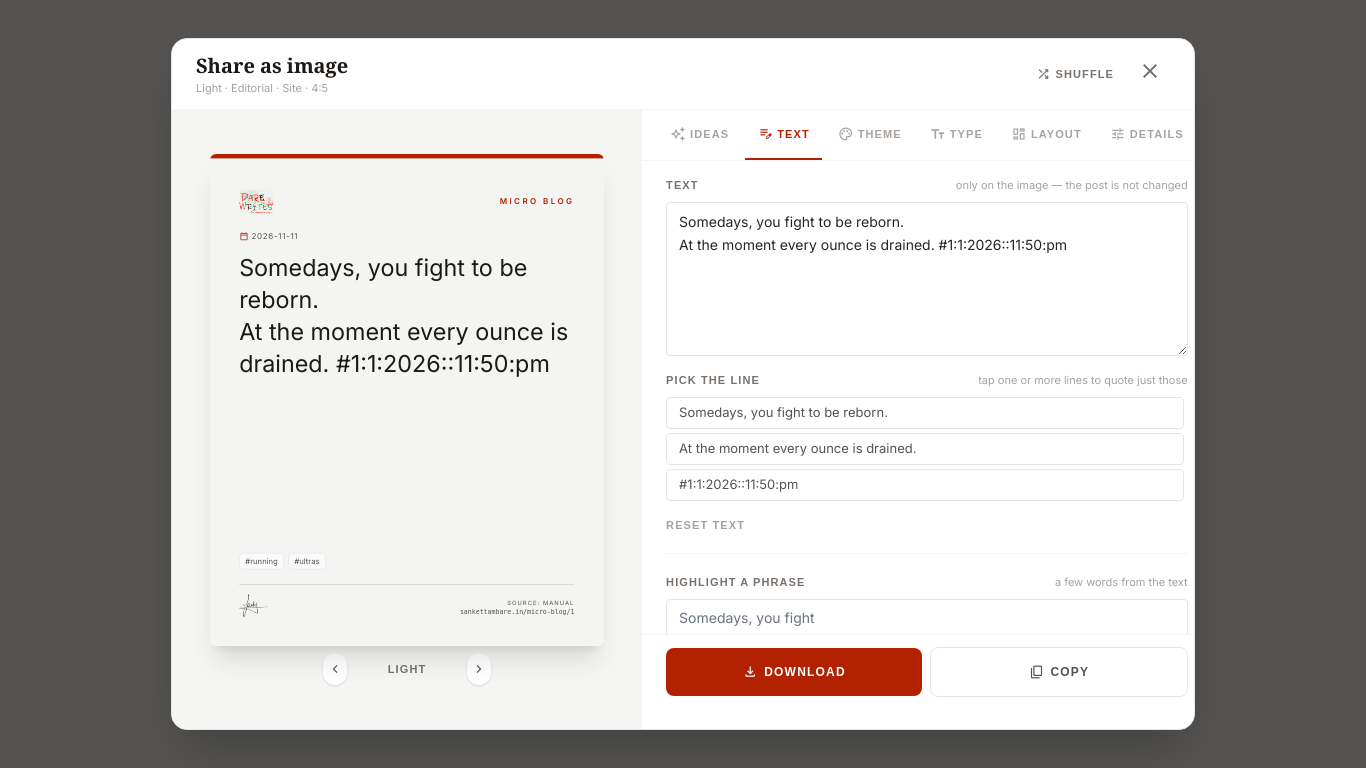
Scenario: ShareStudio › opens, switches tabs, edits text and closes
Earlier steps of the test are not shown.
Later steps or results of the test are not shown.
Click the tab "Theme" at (870, 134), box [838,124,902,144]
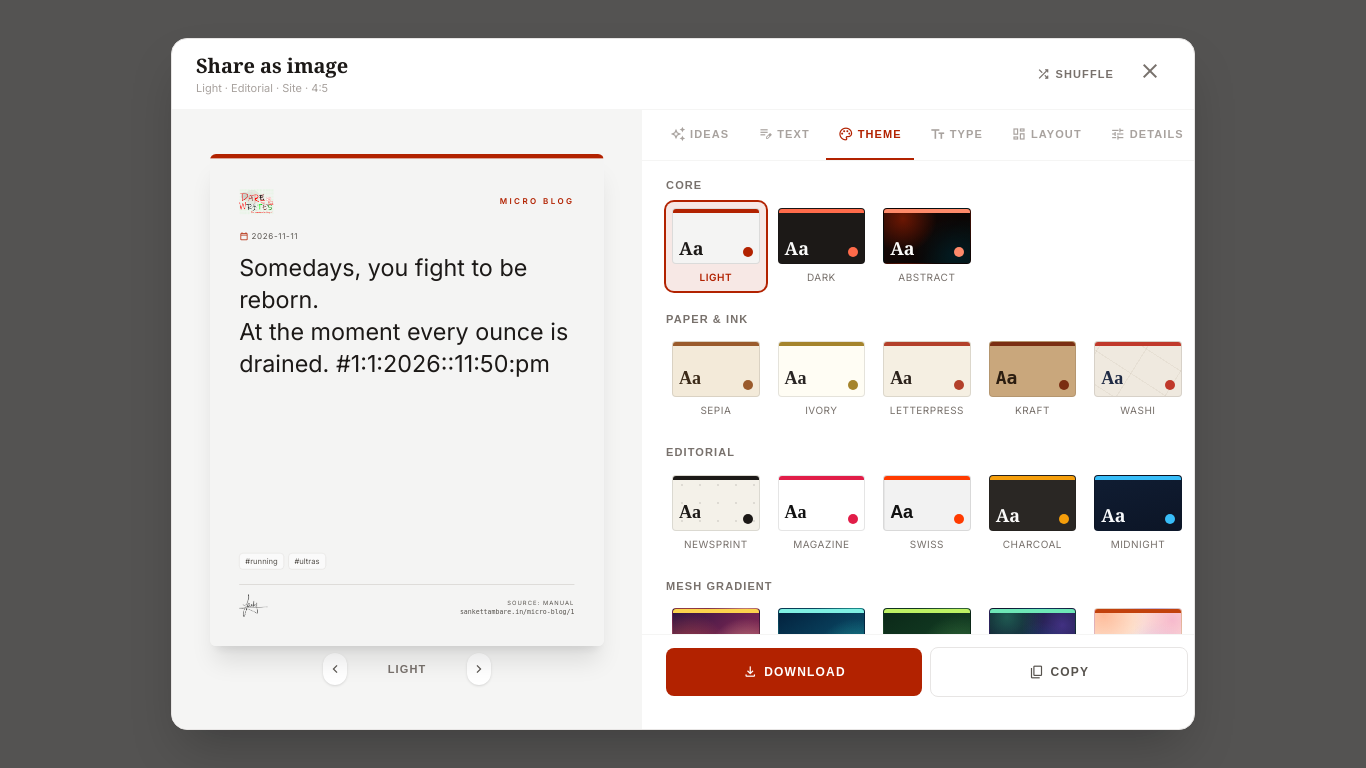
Click the tab "Type" at (956, 134), box [930,124,983,144]
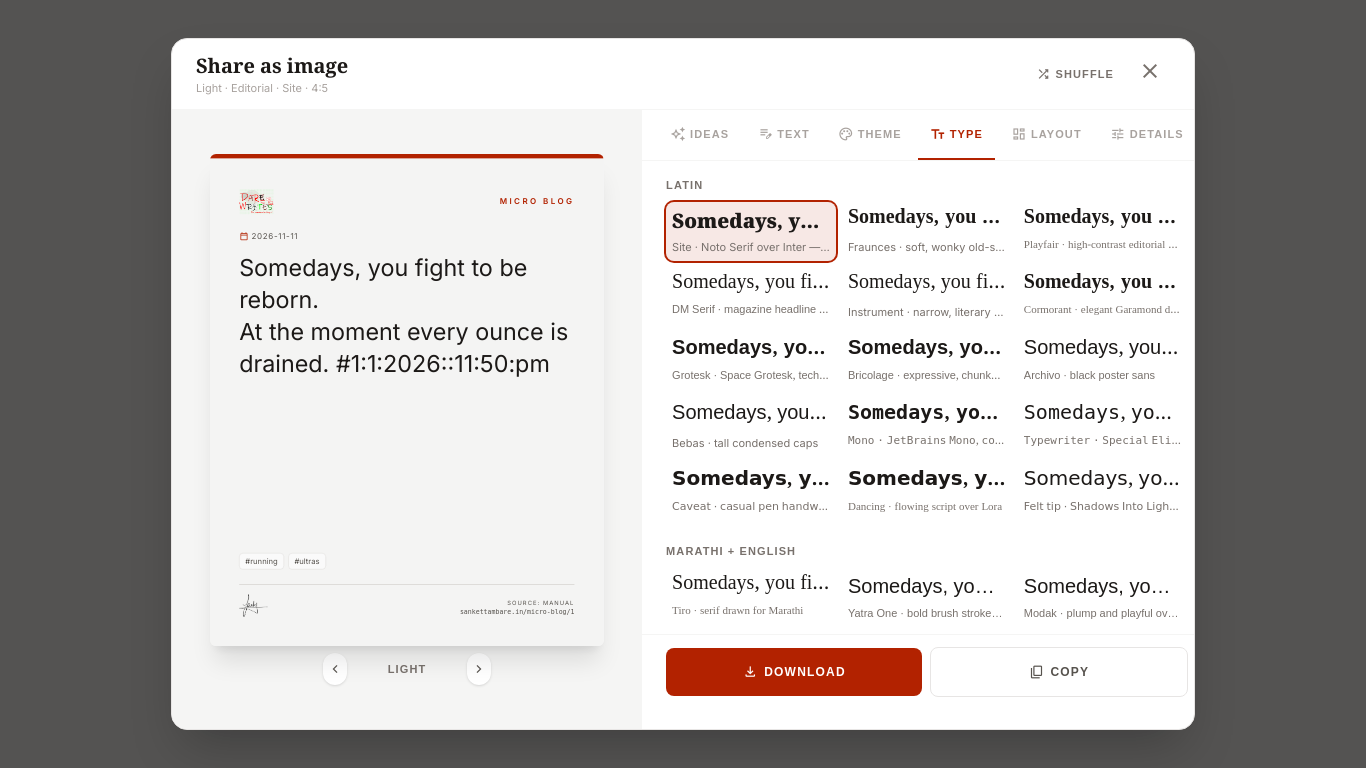
Click the tab "Layout" at (1046, 134), box [1011,124,1082,144]
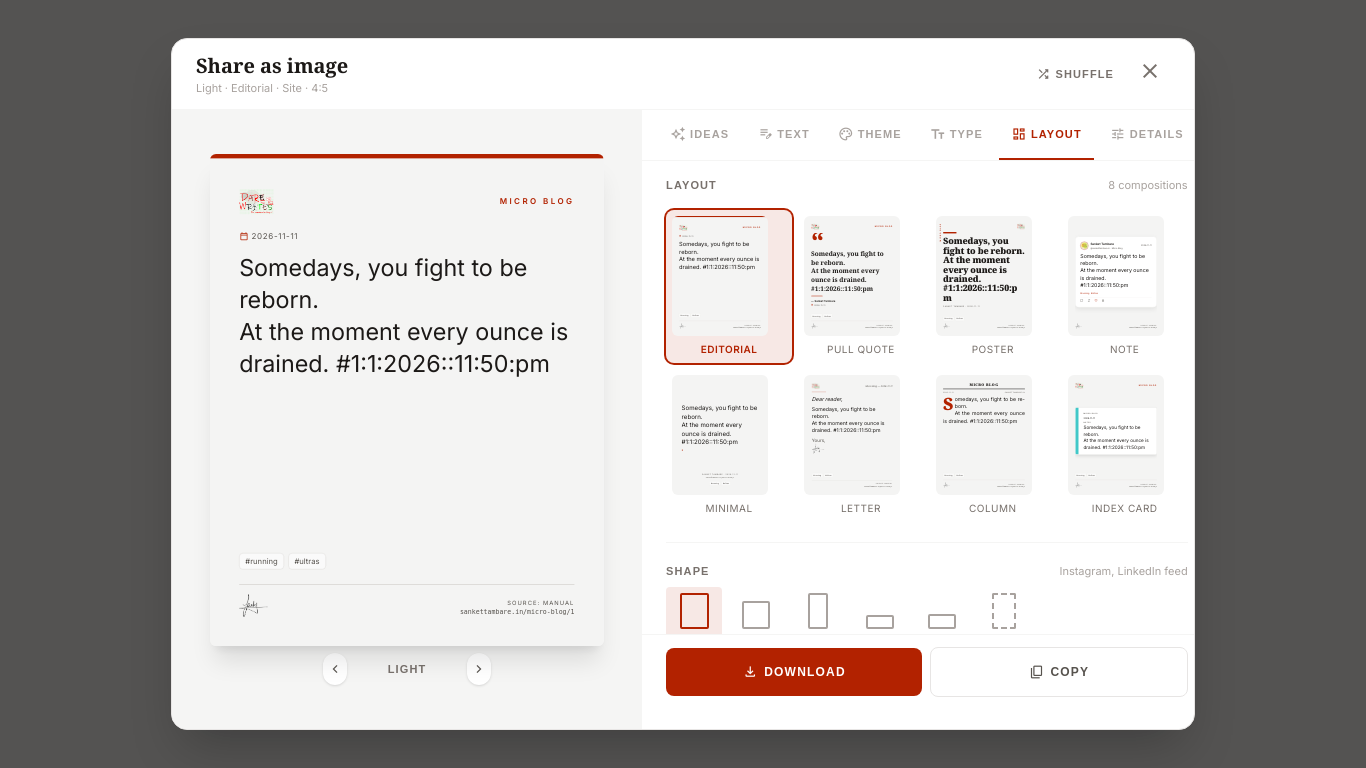
Click the tab "Details" at (1147, 134), box [1110,124,1184,144]
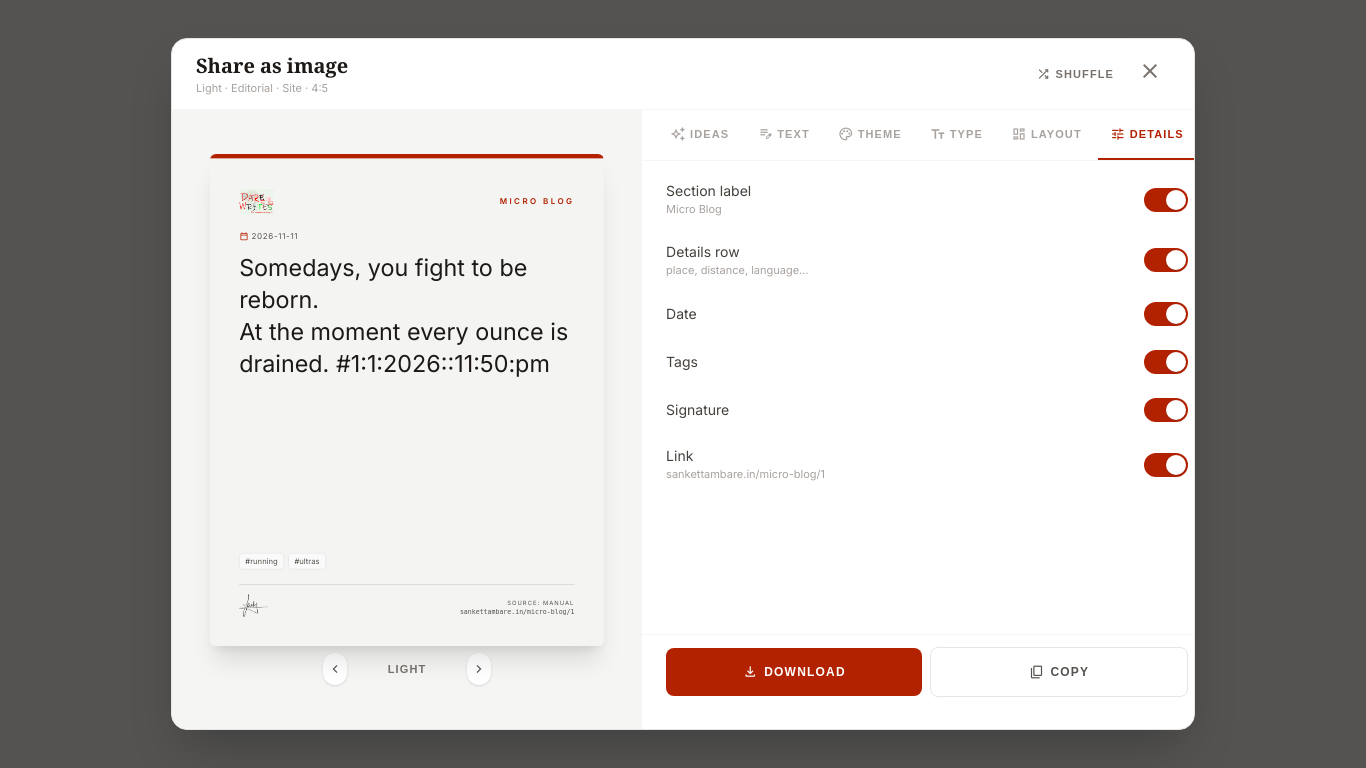
Click the tab "Text" at (783, 134), box [757,124,810,144]
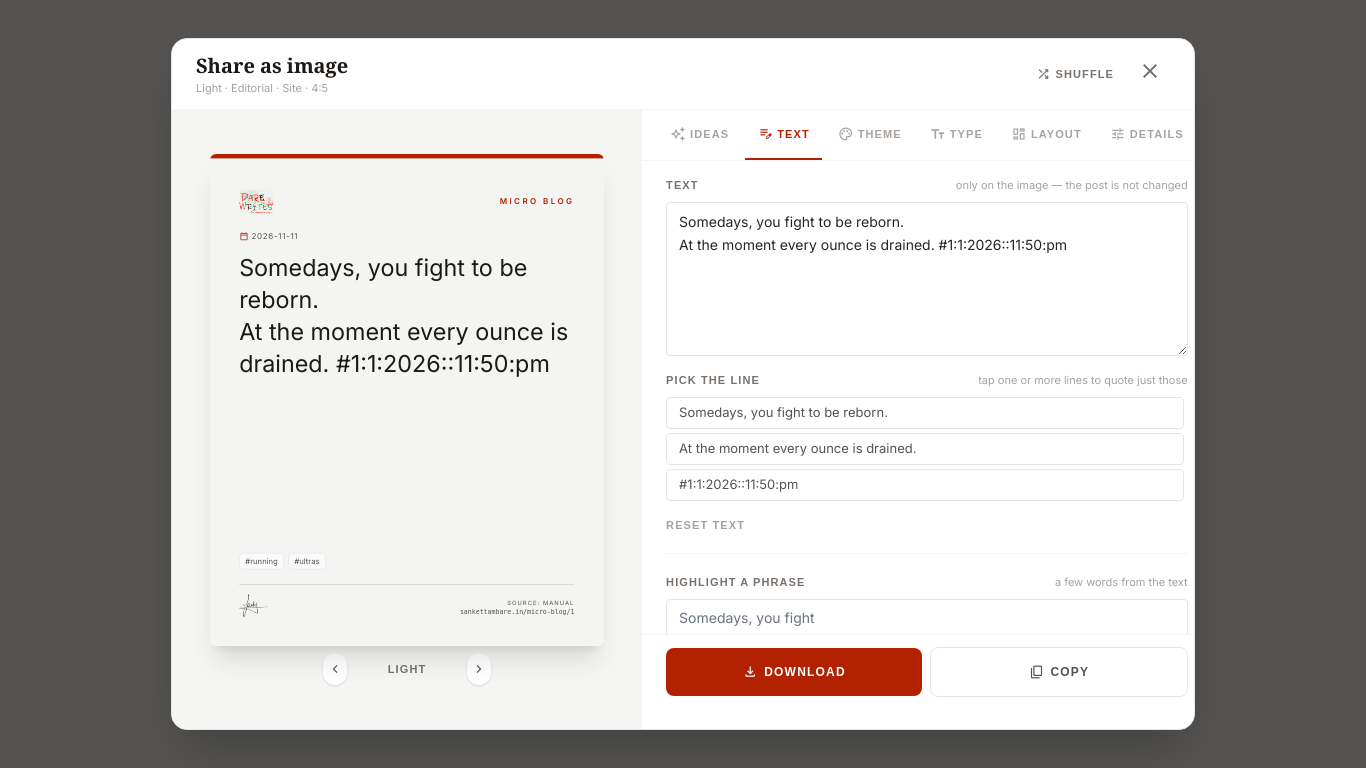
Replace the text in the text box labelled "Text only on the image — the post is not changed" with "Edited line" at (927, 279), box [666,202,1188,356]
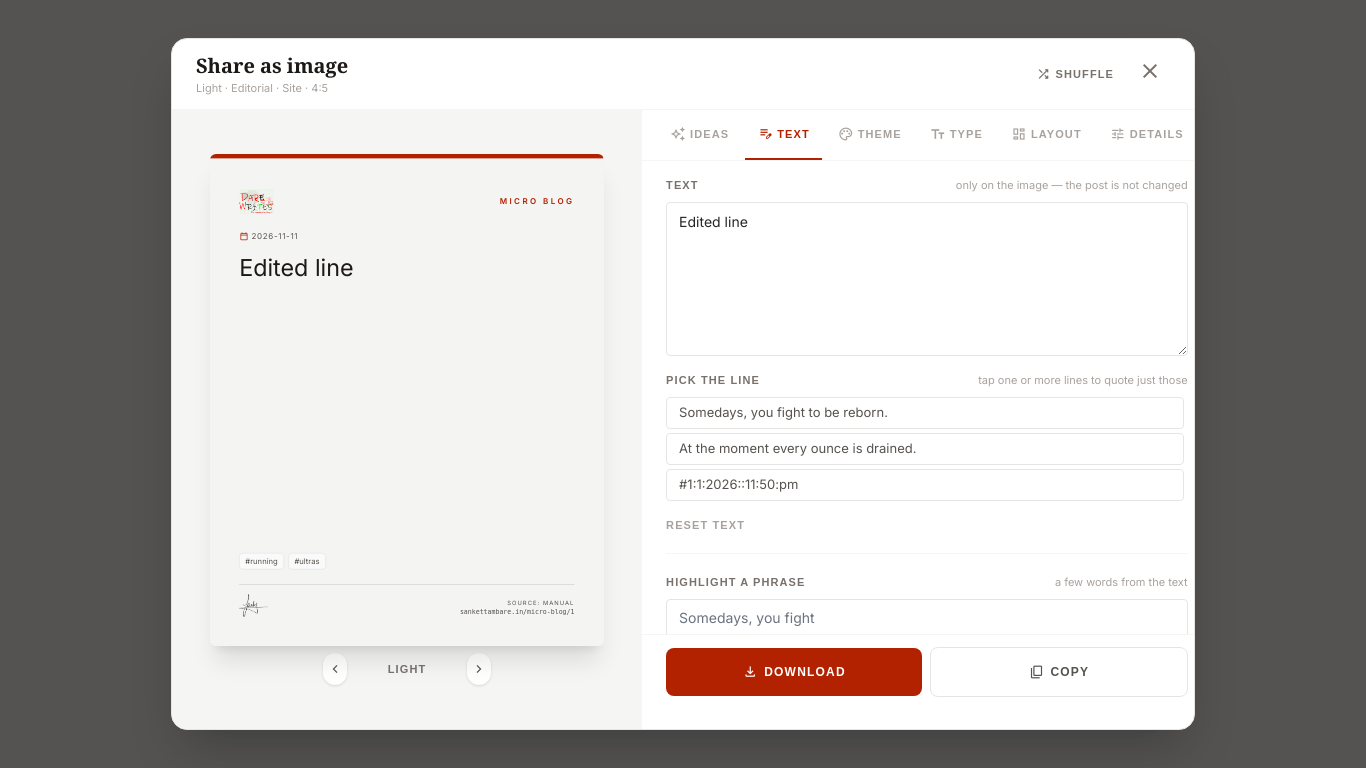
Expected: the text "Edited line" is shown, [239,251,354,283]
